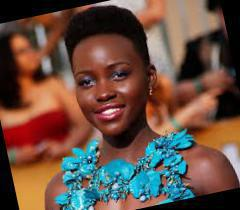Sober: (77, 41, 142, 129)
